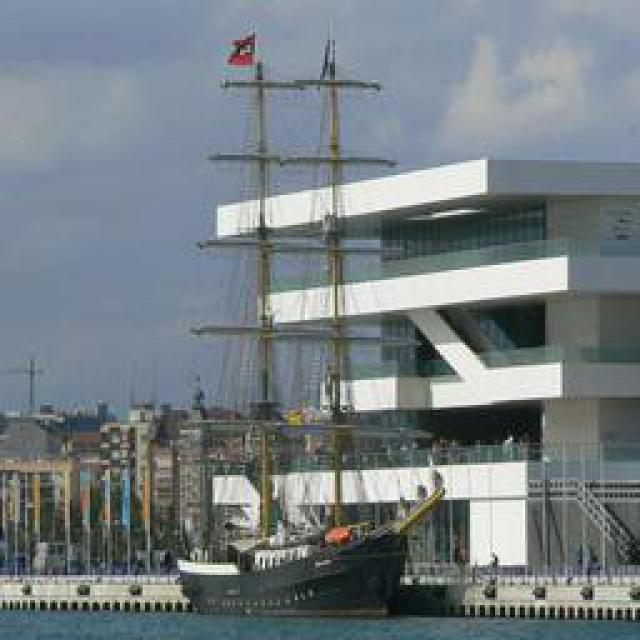Ship: (174, 470, 459, 618)
